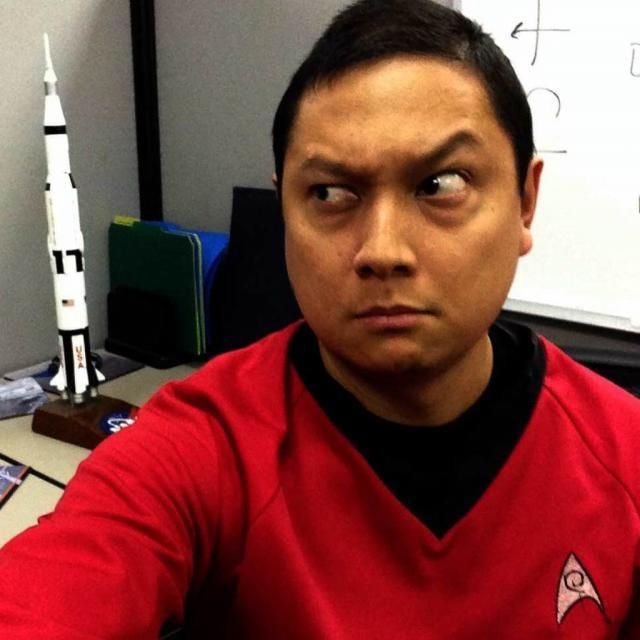missile: (6, 28, 106, 403)
